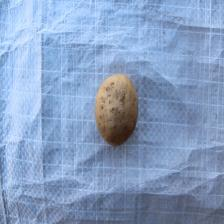Diseased-fungal potato: (92, 72, 140, 147)
